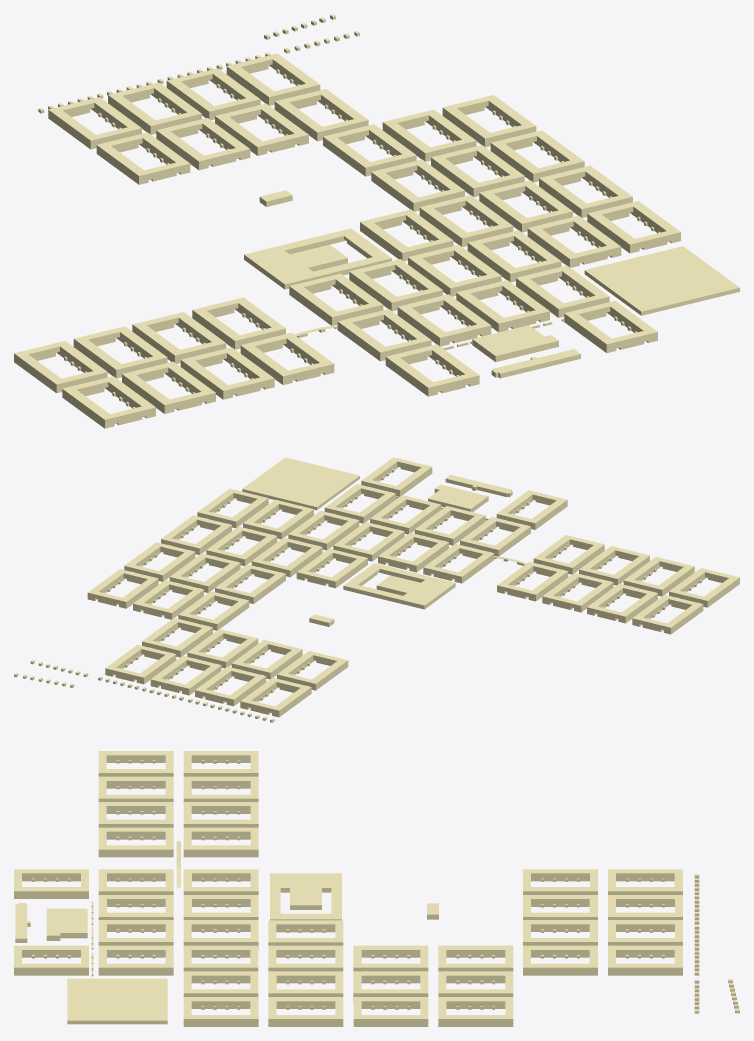
3 views of the same model, one above another, from view 1: azimuth 30°, elevation 25°; view 2: azimuth 150°, elevation 25°; view 3: azimuth 270°, elevation 25° (orthographic). The views are drawn at different scales.
Parts seen in each view (by area): view 1: Group2, Group3, Group1; view 2: Group2, Group3, Group1; view 3: Group2, Group3, Group1.
Boxes of the visible parts, x1,y1,x2,y2 form: Group2: (14,53,680,428); Group3: (244,190,739,378); Group1: (38,14,359,113); Group2: (87,457,739,717); Group3: (242,457,526,626); Group1: (14,660,274,722); Group2: (14,751,682,1026); Group3: (15,841,438,1024); Group1: (694,874,739,1013).
Bounding box in the file's own units: 951 × 14.01 × 1088.
